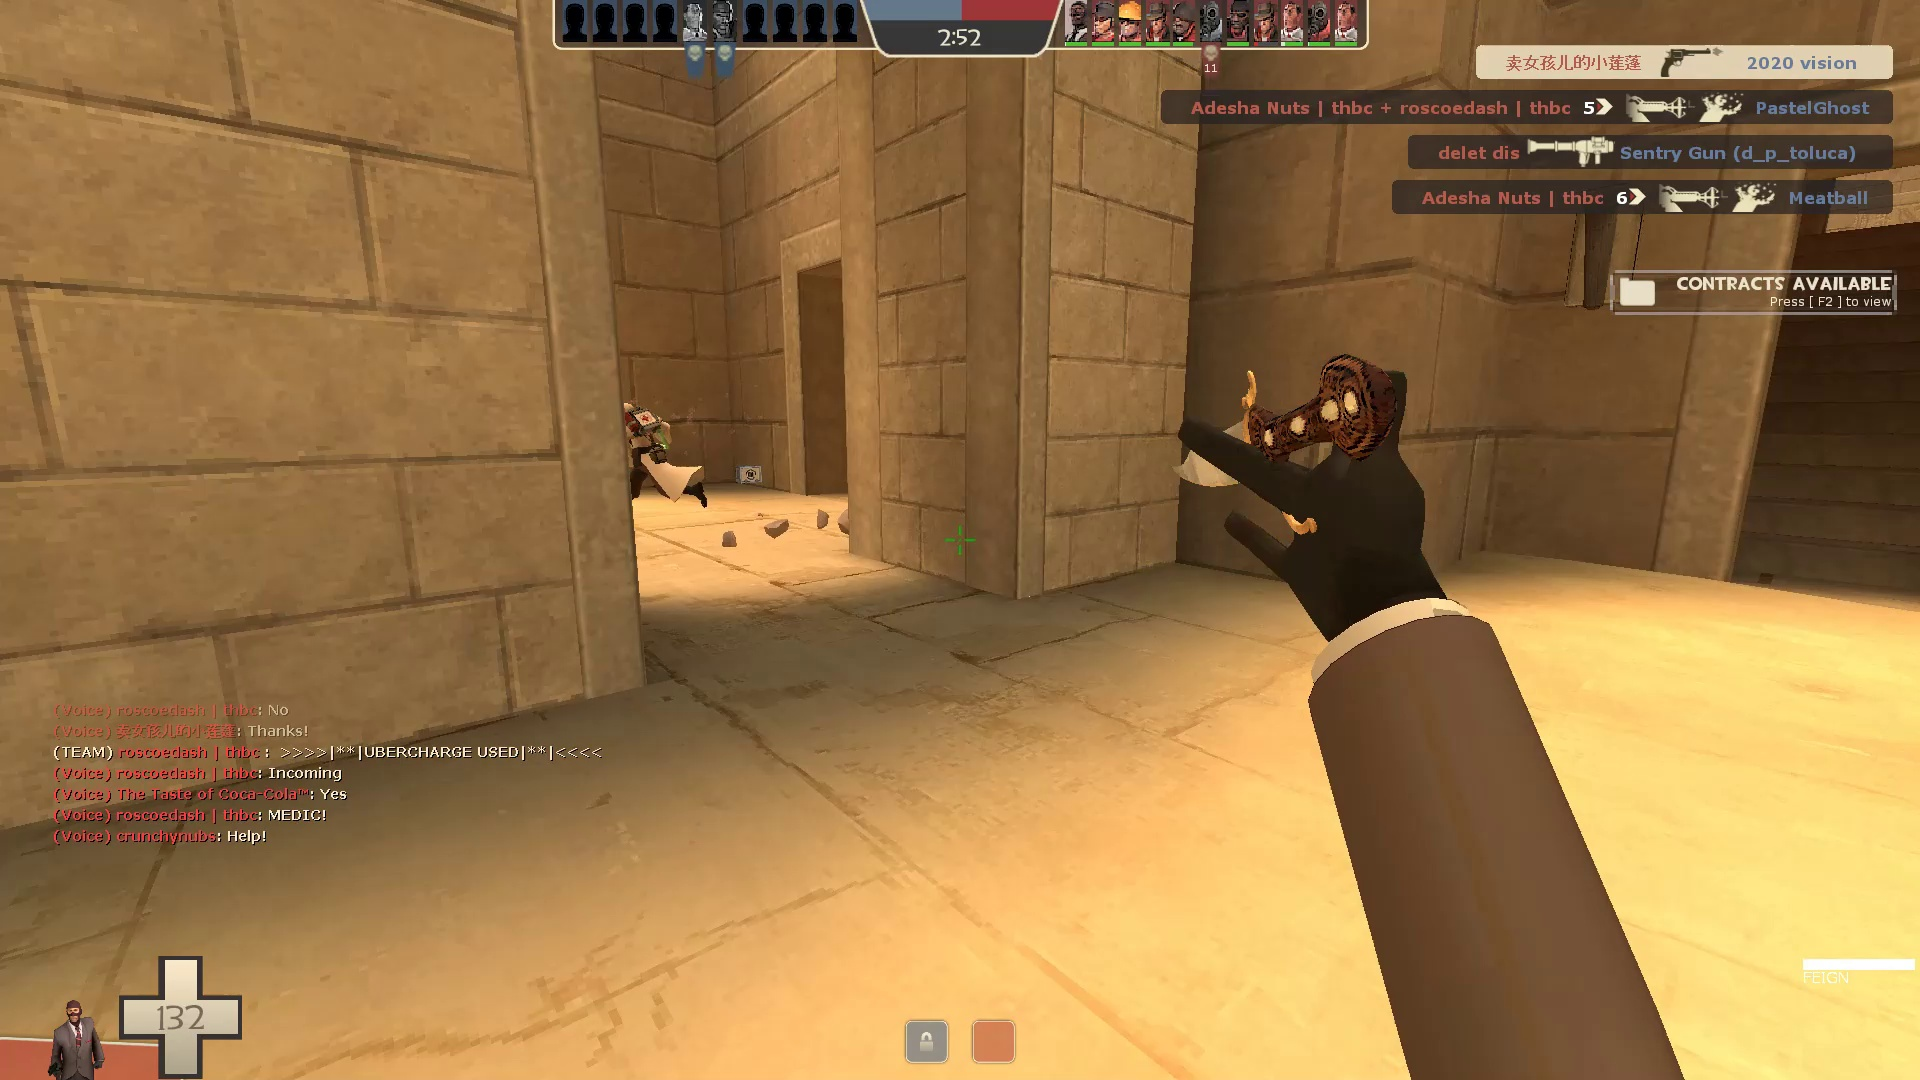red_medic: (595, 388, 719, 518)
